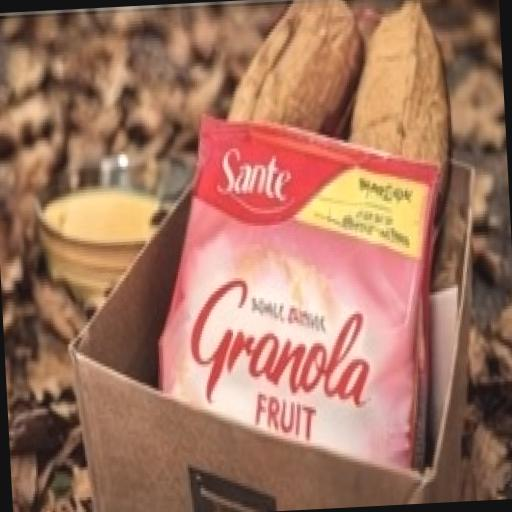granola: (146, 81, 451, 512)
